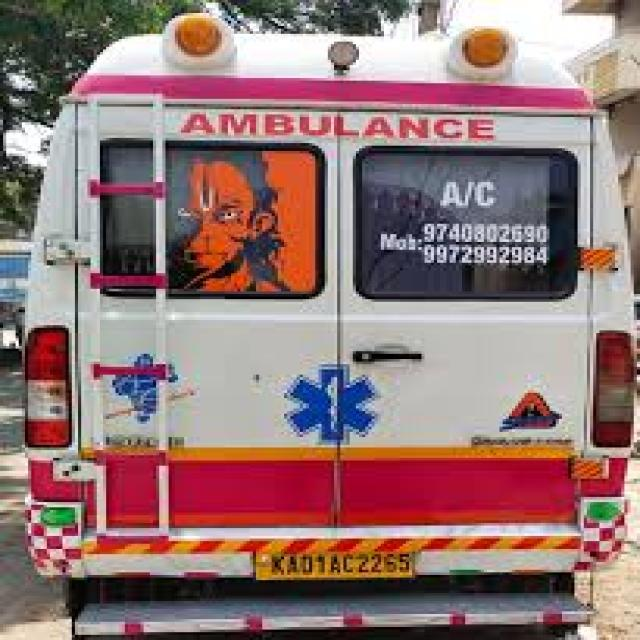ambulance: (72, 75, 628, 580)
